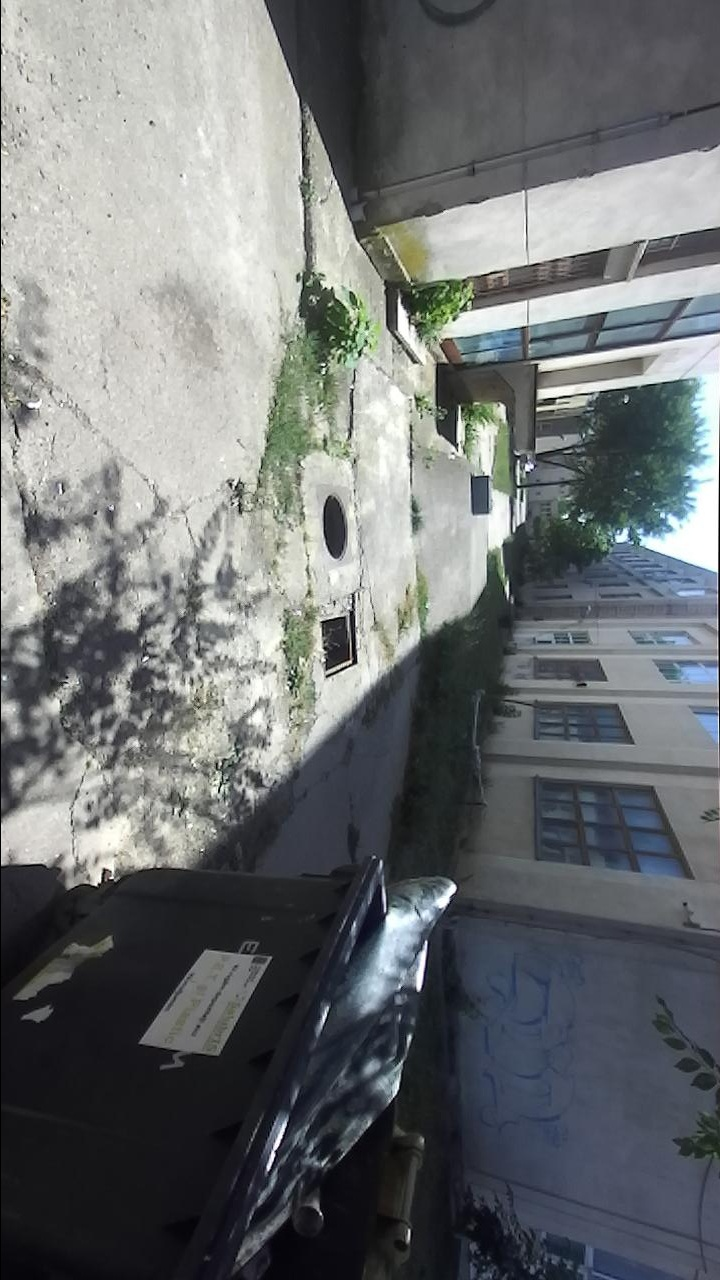drain: (313, 601, 362, 686), (320, 489, 355, 569)
